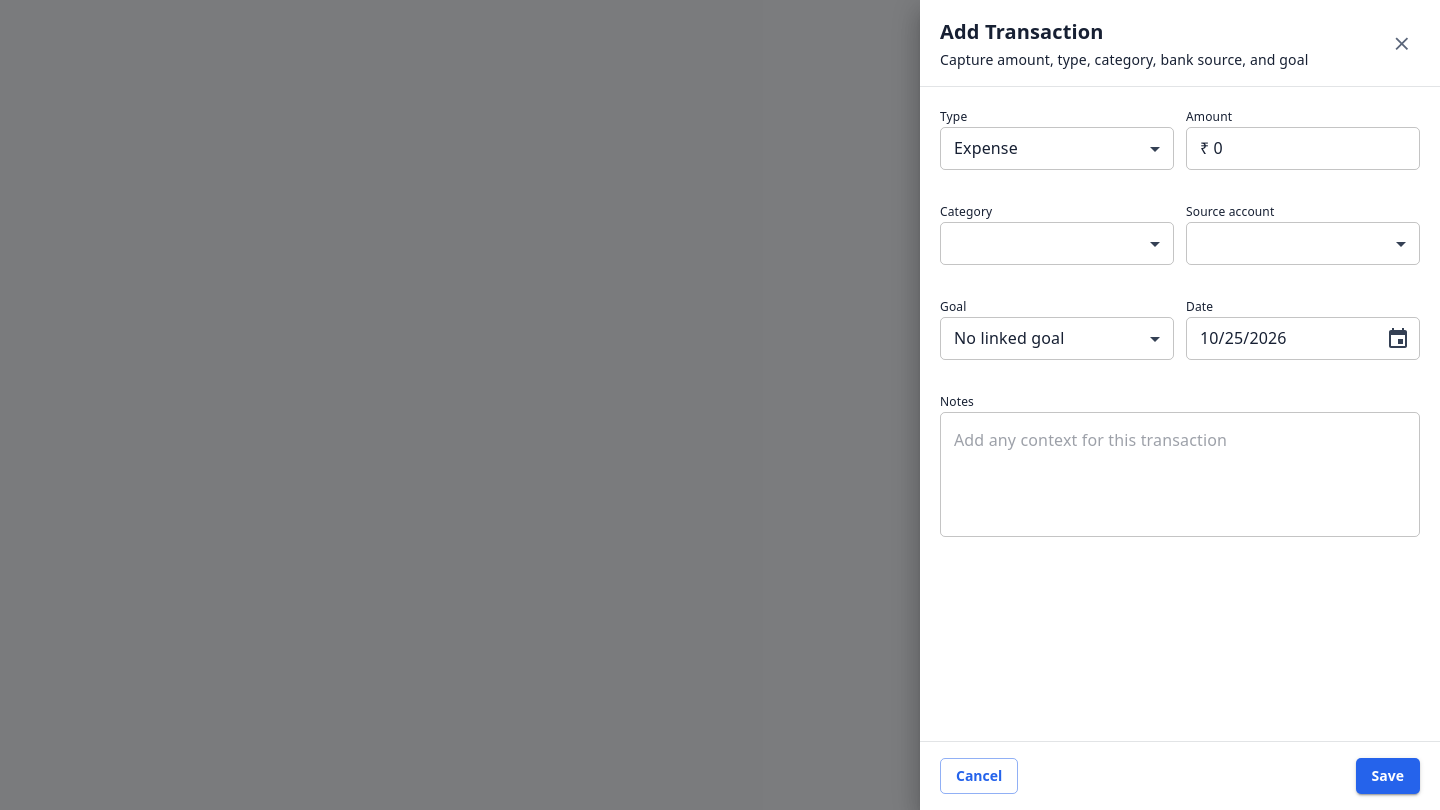
Test: TransactionsAddEditDrawer › shows only the fields required for the selected transaction type
Expected: the text "Source account" is shown, [1186, 203, 1274, 220]
Expected: the text "Destination account" is not shown
Click the dropdown labelled "Expense".
click(986, 148)  # box [954, 137, 1018, 159]
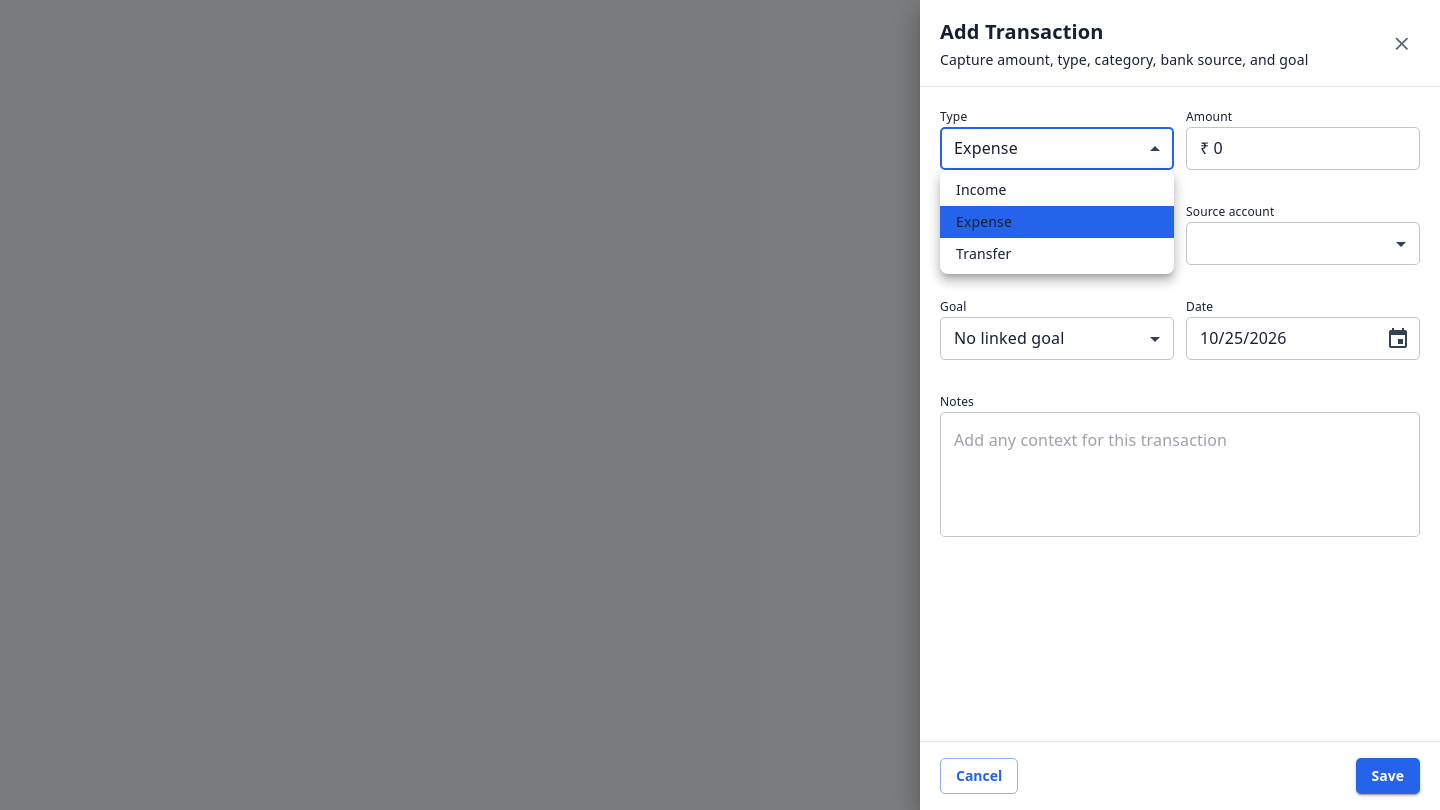
Click the option "Income".
click(981, 190)  # box [956, 180, 1006, 199]
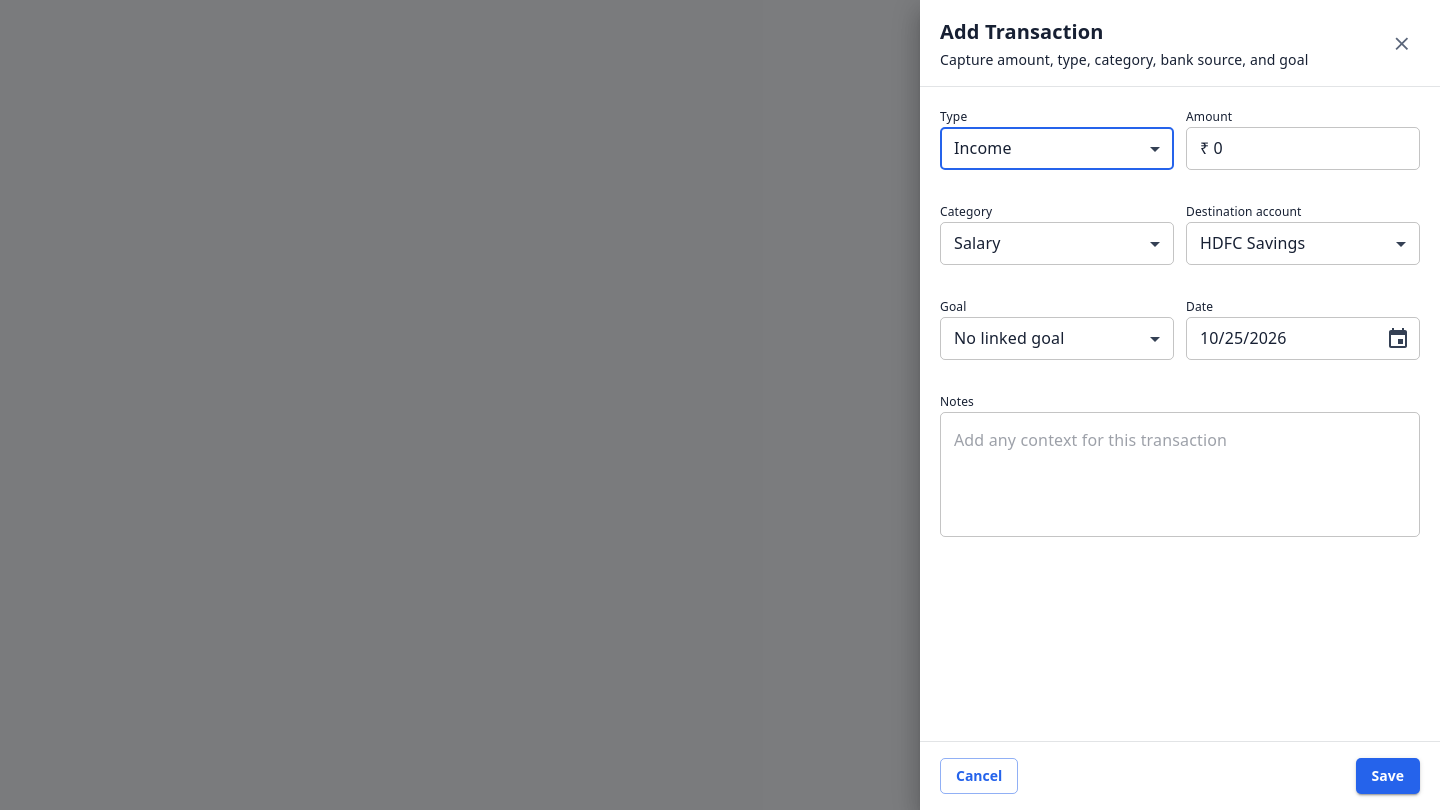
Expected: the text "Category" is shown, [940, 203, 992, 220]
Now the text "Destination account" is shown, box [1186, 203, 1302, 220]
Now the text "Source account" is gone
